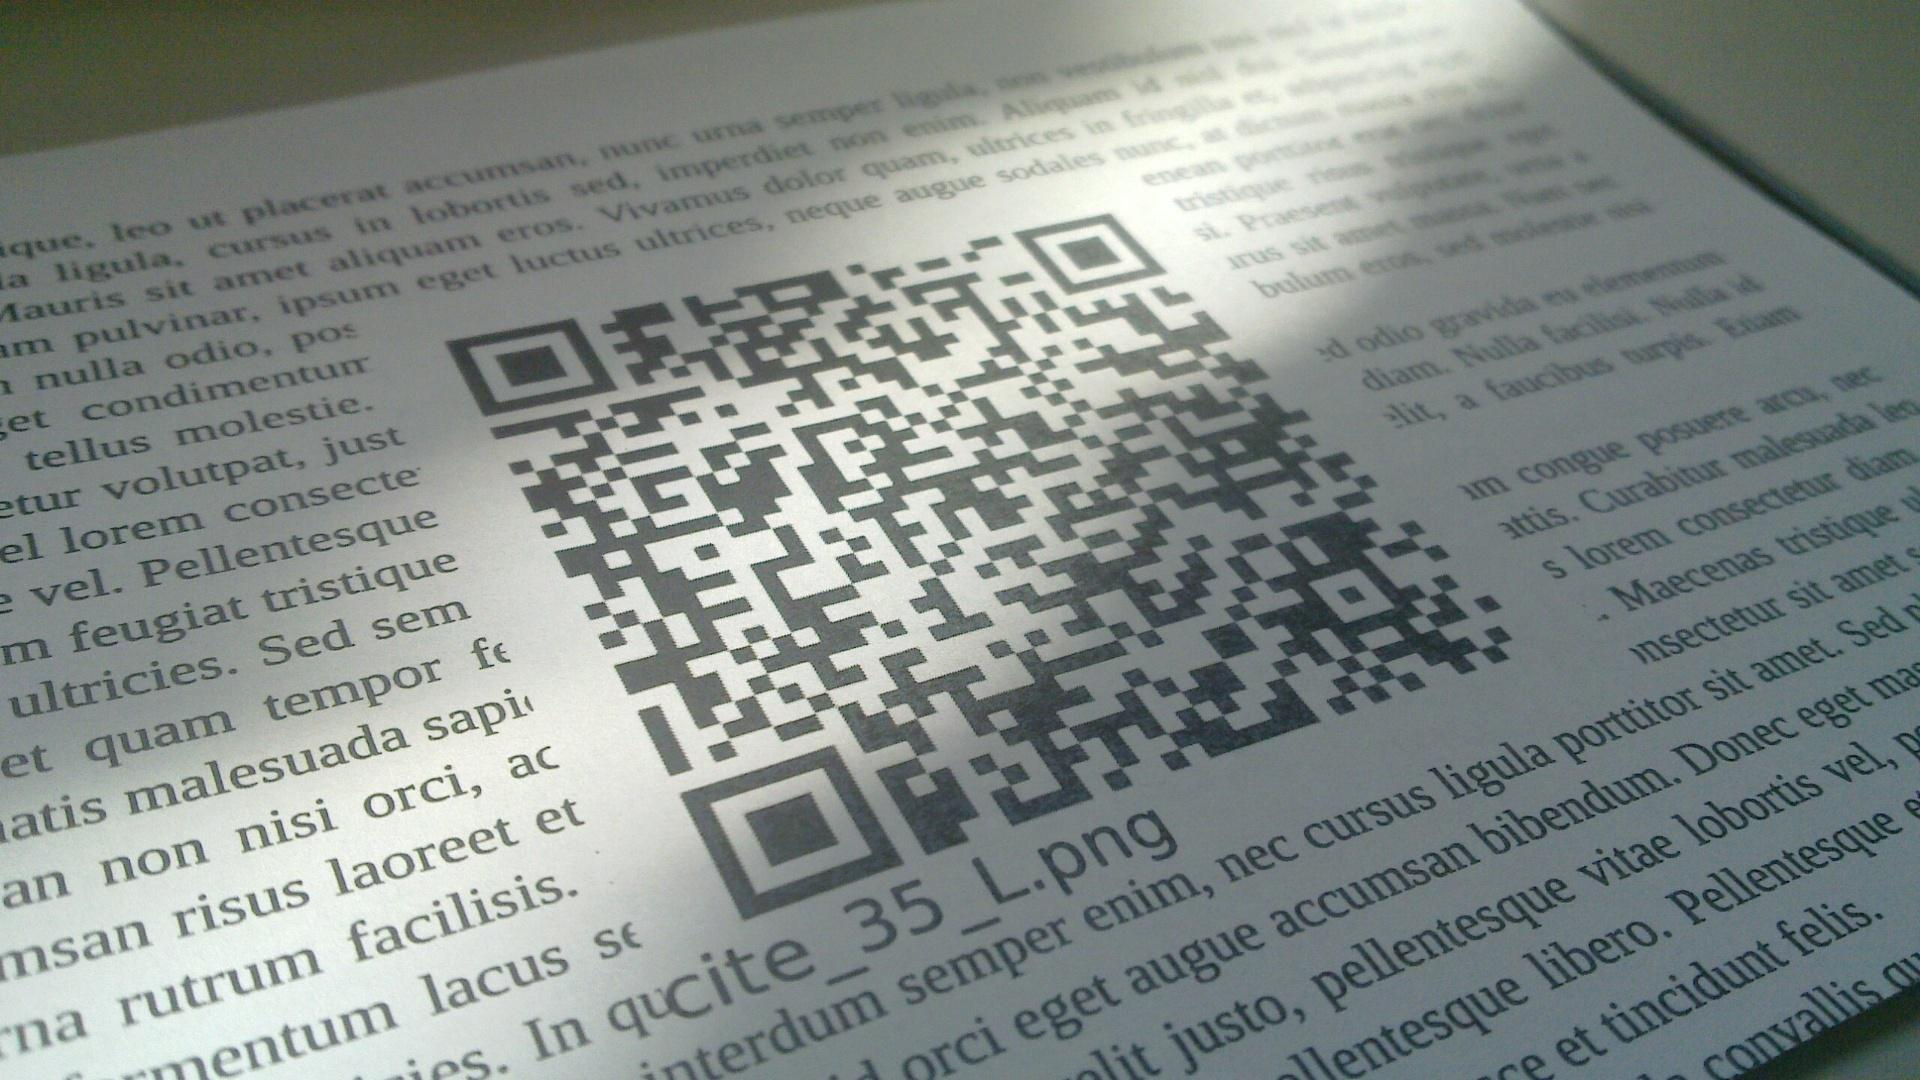Finder pattern: (671, 750, 905, 916), (442, 318, 618, 414), (1009, 204, 1171, 297)
